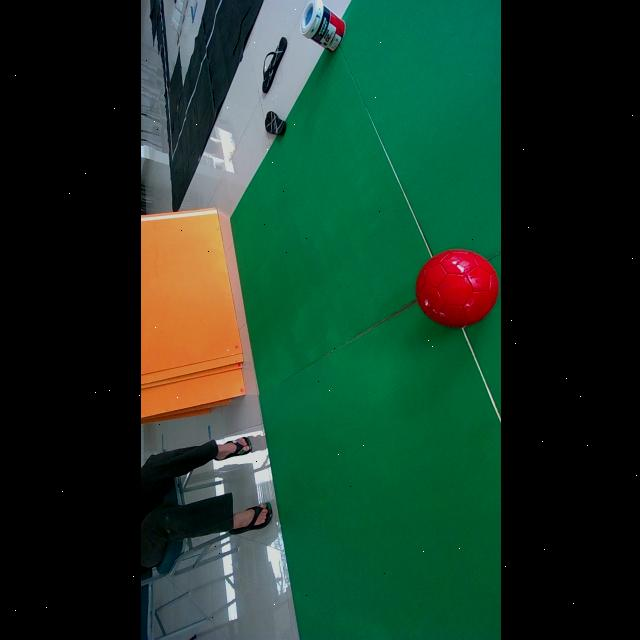R: (415, 249, 498, 328)
